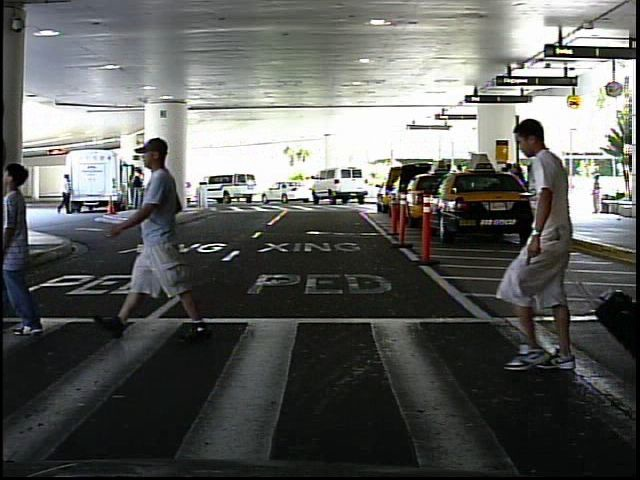person: (474, 113, 602, 379), (125, 130, 208, 342), (55, 171, 78, 221), (588, 172, 607, 218)
